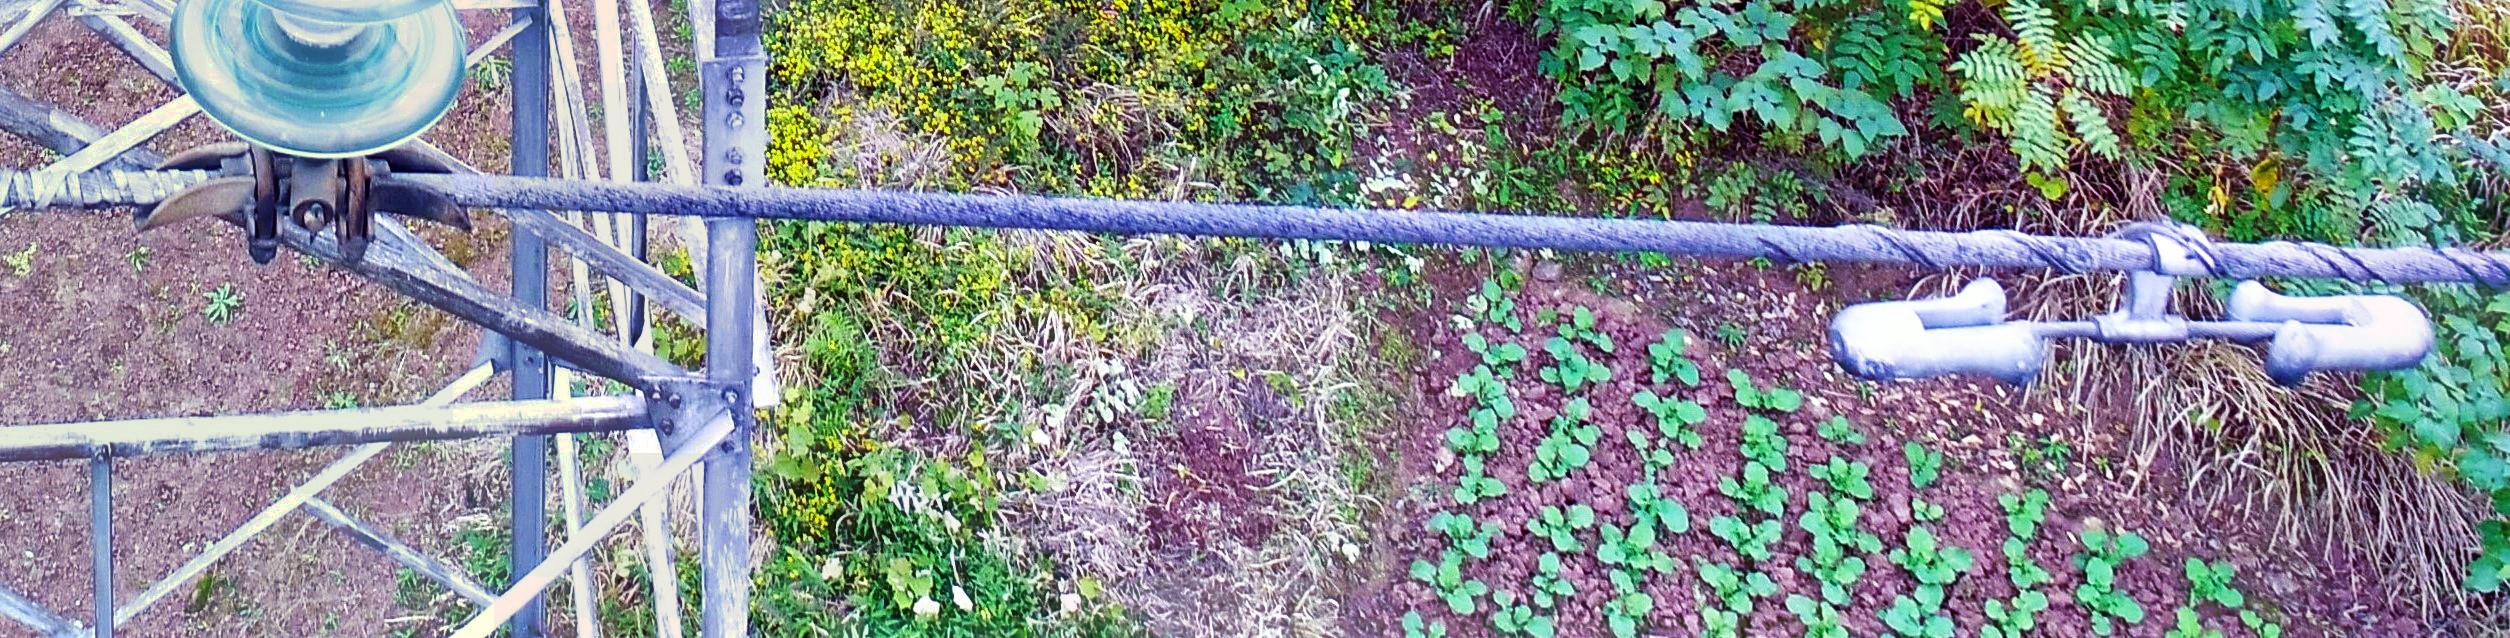Shockproof hammer: (1820, 195, 2449, 406)
